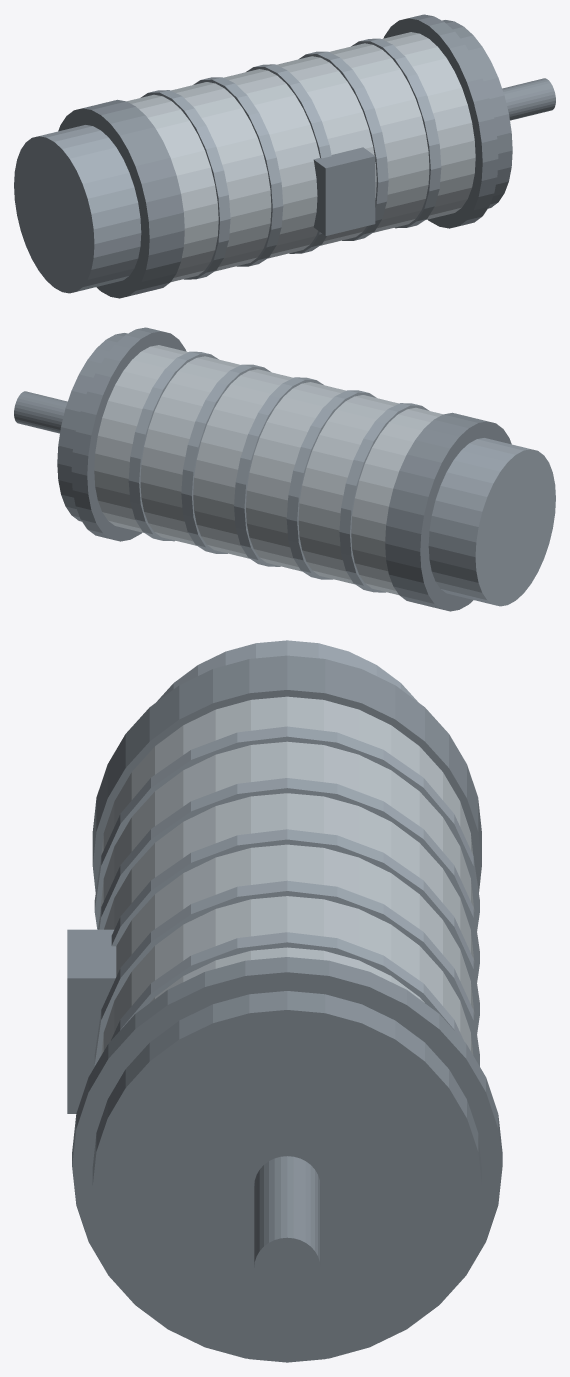
The model's file is iec_71_b14.glb.
3 views of the same model, one above another, from view 1: azimuth 30°, elevation 25°; view 2: azimuth 150°, elevation 25°; view 3: azimuth 270°, elevation 25° (orthographic). The views are drawn at different scales.
Visible parts, largest first — view 1: iec_71_b14; view 2: iec_71_b14; view 3: iec_71_b14.
Part boxes in pixels (<box>): iec_71_b14: <box>14,14,555,298</box>; iec_71_b14: <box>14,327,555,611</box>; iec_71_b14: <box>67,640,502,1362</box>.
Bounding box in the file's own units: 1.89 × 0.713 × 0.7208.
